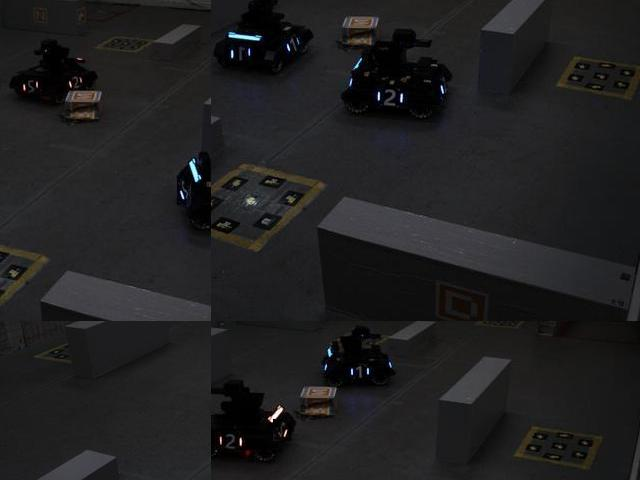armor: (373, 82, 406, 111), (225, 42, 259, 68), (213, 429, 246, 454), (19, 77, 44, 99), (346, 361, 372, 382), (65, 72, 88, 93), (178, 174, 193, 206), (274, 420, 293, 443)
